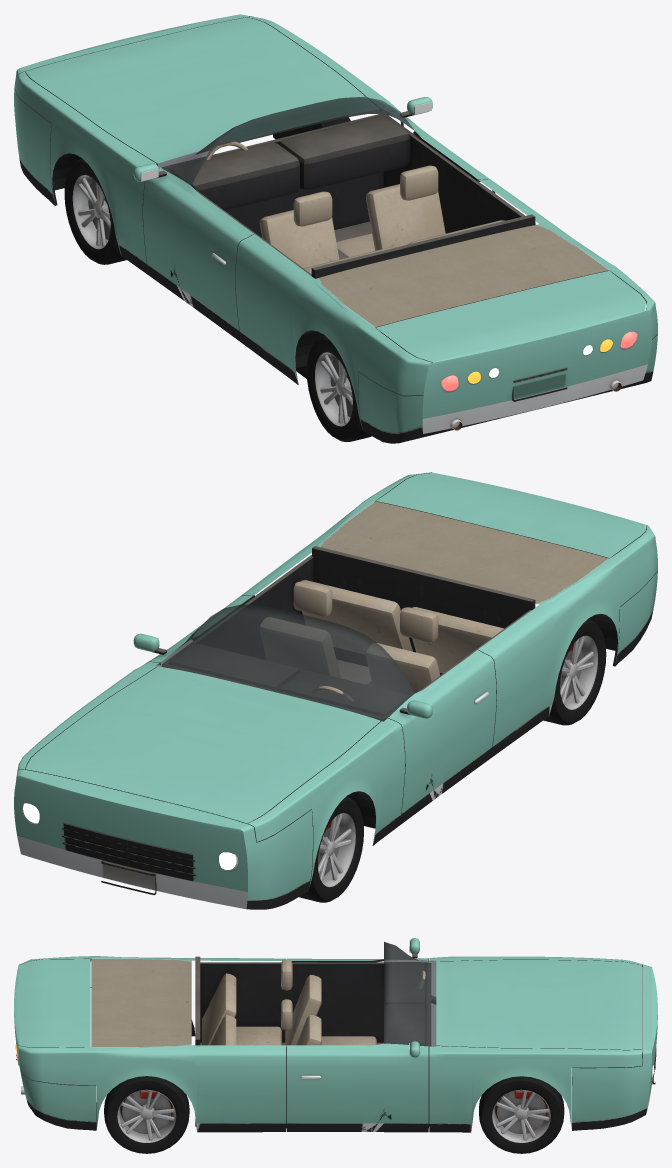
Rendered from convertible_cruiser.glb.
The picture shows the model from 3 angles, top to bottom: view 1: azimuth 30°, elevation 25°; view 2: azimuth 150°, elevation 25°; view 3: azimuth 270°, elevation 25°; orthographic projection. The views are drawn at different scales.
Parts seen in each view (by area): view 1: lod0, hood, bumper_r, trunk, door_fl, window_front, bumper_f, wheel_rl_mesh, wheel_fl_mesh, door_fr; view 2: lod0, hood, bumper_f, window_front, door_fl, trunk, wheel_rl_mesh, wheel_fl_mesh, bumper_r, door_fr; view 3: lod0, hood, door_fr, trunk, bumper_f, wheel_rr, wheel_fr, window_front, bumper_r, door_fl.
Part boxes in pixels (x1=…): lod0: x1=16, y1=17, x2=657, y2=442; hood: x1=25, y1=17, x2=379, y2=165; bumper_r: x1=358, y1=334, x2=657, y2=443; trunk: x1=376, y1=270, x2=646, y2=362; door_fl: x1=133, y1=163, x2=253, y2=342; window_front: x1=156, y1=96, x2=414, y2=185; bumper_f: x1=14, y1=14, x2=253, y2=205; wheel_rl_mesh: x1=306, y1=335, x2=371, y2=441; wheel_fl_mesh: x1=64, y1=158, x2=126, y2=264; door_fr: x1=389, y1=97, x2=495, y2=193; lod0: x1=17, y1=472, x2=657, y2=890; hood: x1=25, y1=666, x2=380, y2=823; bumper_f: x1=14, y1=769, x2=312, y2=909; window_front: x1=156, y1=604, x2=414, y2=721; door_fl: x1=388, y1=650, x2=496, y2=825; trunk: x1=376, y1=472, x2=645, y2=558; wheel_rl_mesh: x1=543, y1=618, x2=606, y2=725; wheel_fl_mesh: x1=299, y1=796, x2=363, y2=902; bumper_r: x1=613, y1=570, x2=657, y2=666; door_fr: x1=133, y1=595, x2=254, y2=664; lod0: x1=14, y1=956, x2=642, y2=1132; hood: x1=436, y1=960, x2=642, y2=1050; door_fr: x1=287, y1=1041, x2=428, y2=1132; trunk: x1=14, y1=959, x2=90, y2=1047; bumper_f: x1=572, y1=964, x2=657, y2=1130; wheel_rr: x1=104, y1=1076, x2=189, y2=1153; wheel_fr: x1=479, y1=1076, x2=564, y2=1153; window_front: x1=384, y1=942, x2=436, y2=1046; bumper_r: x1=16, y1=987, x2=96, y2=1130; door_fl: x1=287, y1=938, x2=428, y2=962.
Size of what is drawn, in the model's own units: 2.23 by 1.37 by 5.43.
Materials: 9 (8 with a texture image).
